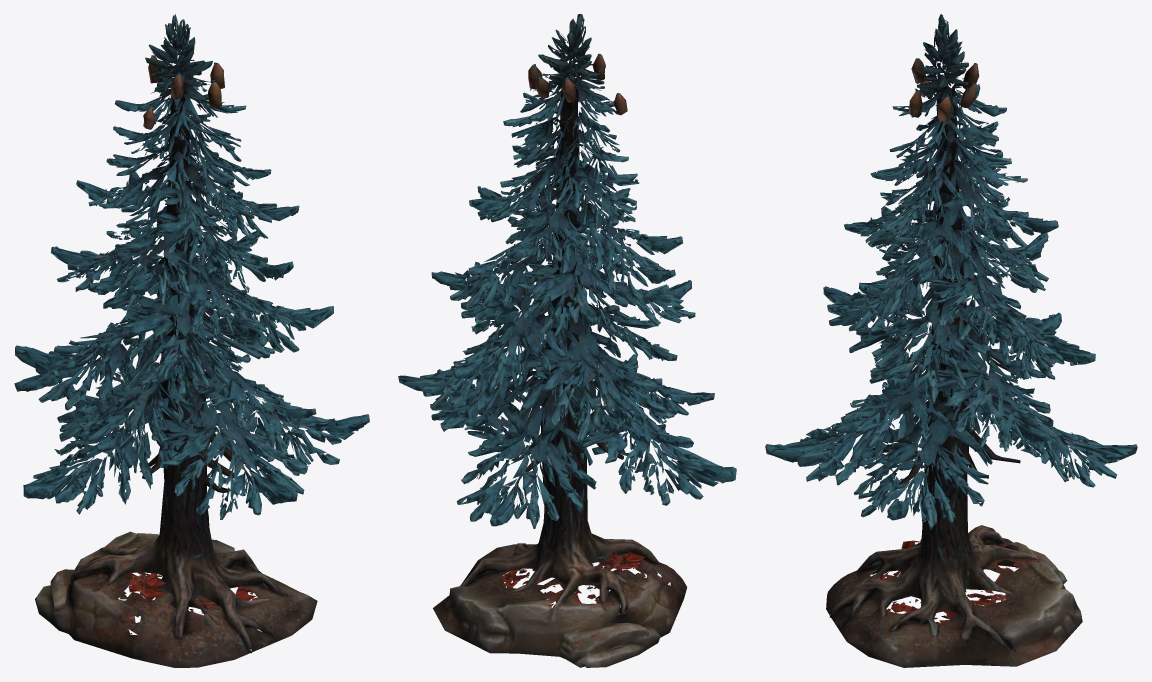
Rendered from nature_tree_fir.glb.
3 renders of one model, left to right at view 1: azimuth 30°, elevation 25°; view 2: azimuth 150°, elevation 25°; view 3: azimuth 270°, elevation 25°, orthographic. The views are drawn at different scales.
Visible parts, largest first — view 1: world; view 2: world; view 3: world.
Part boxes in pixels (x1,y1,x2,y2): world: [14, 14, 369, 667]; world: [398, 14, 736, 667]; world: [765, 14, 1137, 667].
Size of the model in its own units: 8.41 by 15 by 8.46.
1 material, 1 textured.
